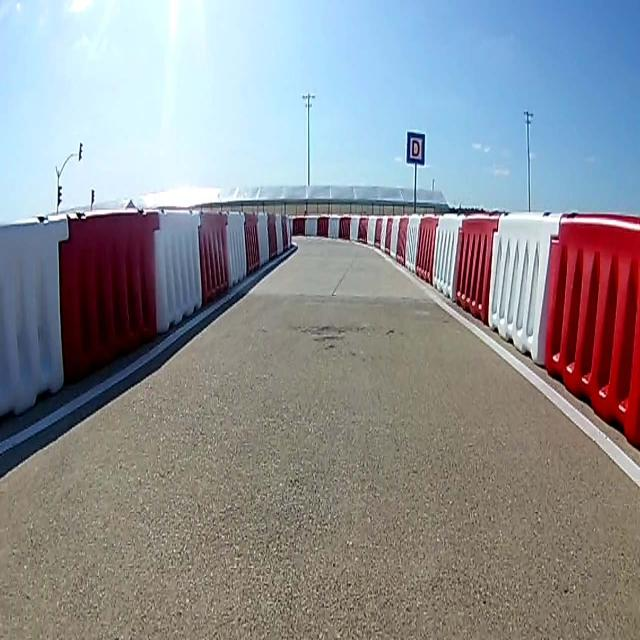durak: (406, 130, 426, 164)
